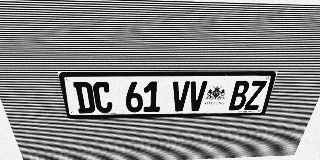1: (143, 81, 161, 112)
6: (125, 81, 143, 112)
B: (228, 81, 251, 110)
C: (92, 82, 113, 113)
D: (73, 82, 96, 113)
V: (171, 81, 190, 111), (188, 81, 207, 111)
Z: (244, 80, 267, 110)
